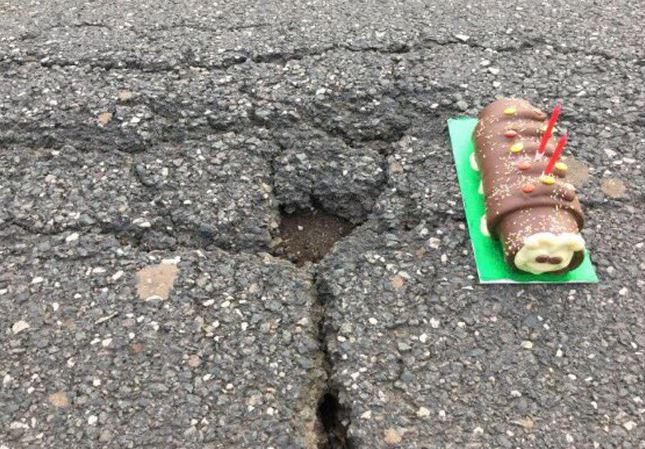pothole: (228, 175, 371, 287)
